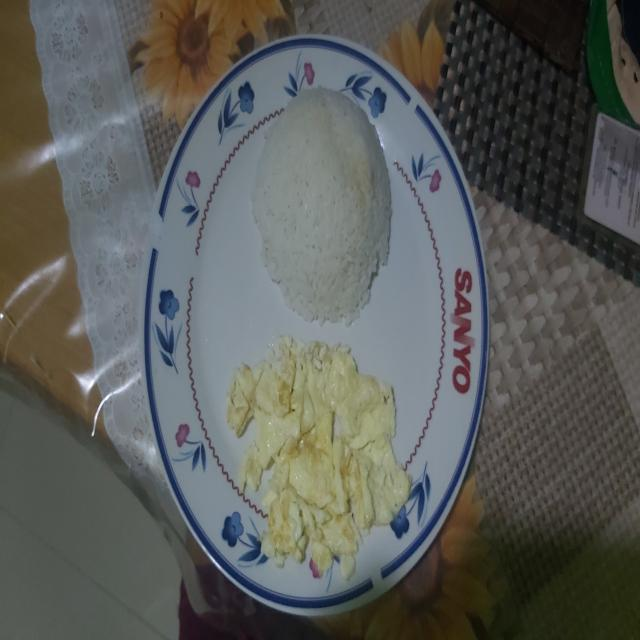Chicken -Chicken Inasal-: (250, 78, 393, 320)
